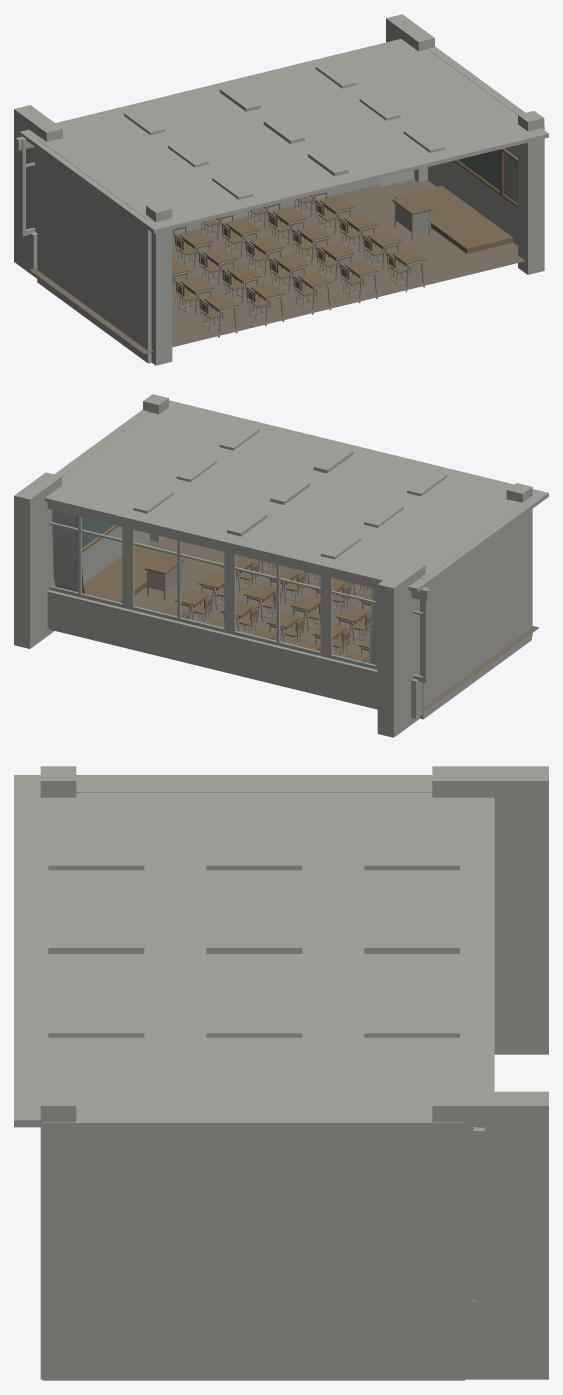
File: school_classroom.fbx
3 views of the same model, one above another, from view 1: azimuth 30°, elevation 25°; view 2: azimuth 150°, elevation 25°; view 3: azimuth 270°, elevation 25° (orthographic). The views are drawn at different scales.
Visible parts, largest first — view 1: pPlane73, pPlane4, pPlane36, pPlane75, pPlane38, pPlane74, pPlane72, pPlane69, pPlane39, pPlane76, pPlane2, pPlane41 (+11 smaller); view 2: pPlane73, pPlane36, pPlane2, pPlane4, pPlane41, pPlane69, pPlane76, pPlane43, pPlane38, pPlane72, pPlane46, pPlane39 (+14 smaller); view 3: pPlane73, pPlane38, pPlane76, pPlane69, pPlane36, pPlane75, pPlane77, pPlane79, pPlane78, pPlane81, pPlane82, pPlane84 (+5 smaller).
Part boxes in pixels (left/top/right/bottom): pPlane73: left=19, top=39, right=548, bottom=233; pPlane4: left=29, top=179, right=525, bottom=353; pPlane36: left=37, top=137, right=151, bottom=363; pPlane75: left=518, top=111, right=544, bottom=274; pPlane38: left=428, top=46, right=544, bottom=269; pPlane74: left=146, top=201, right=172, bottom=365; pPlane72: left=395, top=185, right=512, bottom=253; pPlane69: left=14, top=105, right=62, bottom=278; pPlane39: left=453, top=148, right=517, bottom=207; pPlane76: left=386, top=14, right=434, bottom=182; pPlane2: left=27, top=179, right=380, bottom=273; pPlane41: left=21, top=138, right=35, bottom=236; pPlane73: left=45, top=400, right=548, bottom=592; pPlane36: left=420, top=498, right=531, bottom=719; pPlane2: left=47, top=590, right=422, bottom=718; pPlane4: left=134, top=537, right=539, bottom=710; pPlane41: left=49, top=516, right=427, bottom=683; pPlane69: left=377, top=561, right=425, bottom=737; pPlane76: left=14, top=472, right=61, bottom=648; pPlane43: left=47, top=502, right=429, bottom=601; pPlane38: left=54, top=409, right=149, bottom=583; pPlane72: left=83, top=546, right=181, bottom=602; pPlane46: left=51, top=510, right=85, bottom=593; pPlane39: left=82, top=517, right=118, bottom=552; pPlane73: left=14, top=775, right=494, bottom=1127; pPlane38: left=43, top=1116, right=465, bottom=1380; pPlane76: left=432, top=1091, right=548, bottom=1379; pPlane69: left=432, top=766, right=548, bottom=1054; pPlane36: left=76, top=779, right=432, bottom=792; pPlane75: left=40, top=1091, right=76, bottom=1379; pPlane77: left=206, top=935, right=302, bottom=953; pPlane79: left=48, top=935, right=144, bottom=953; pPlane78: left=364, top=935, right=459, bottom=953; pPlane81: left=206, top=853, right=302, bottom=870; pPlane82: left=48, top=853, right=144, bottom=870; pPlane84: left=206, top=1020, right=302, bottom=1037.
Size of the model in its own units: 14.82 by 5.3 by 9.38.
